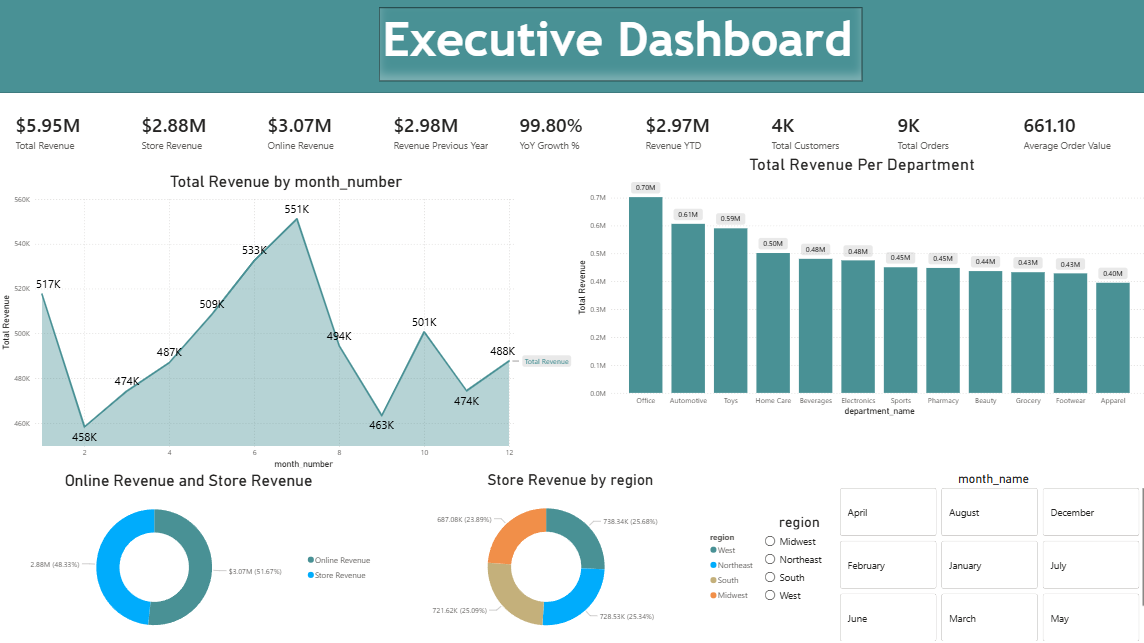

The page's visual inventory and layout, read from the dashboard file:
{"tool":"powerbi","page":{"name":"Executive Dashboard","canvas":[1920,1080],"ordinal":0},"visuals":[{"type":"cardVisual","fields":{"Data":["Measures (2).Total Revenue","Measures (2).Store Revenue","Measures (2).Online Revenue","Measures (2).Revenue Previous Year","Measures (2).YoY Growth %","Measures (2).Revenue YTD","Measures (2).Total Customers","Measures (2).Total Orders","Measures (2).Average Order Value"]},"box":[0,97.5,1920,252.5],"z":0},{"type":"lineChart","fields":{"Y":["Measures (2).Total Revenue"],"Category":["gold dim_date.month_number"]},"box":[0,292.5,960,497.5],"z":1000},{"type":"donutChart","fields":{"Y":["Measures (2).Online Revenue","Measures (2).Store Revenue"]},"box":[0,790,635,290],"z":2000},{"type":"shape","box":[0,0,1920,160],"z":3000},{"type":"advancedSlicerVisual","fields":{"Values":["gold dim_date.month_name"]},"box":[1396.7,790,523.3,290],"z":4000},{"type":"textbox","box":[635,17.5,805,122.5],"z":5000},{"type":"donutChart","fields":{"Category":["gold dim_store.region"],"Y":["Measures (2).Store Revenue"]},"box":[635,790,637.5,290],"z":6000},{"type":"columnChart","title":"Total Revenue Per Department","fields":{"Category":["gold dim_product.department_name"],"Y":["Measures (2).Total Revenue"]},"box":[960,262.5,960,440],"z":7000},{"type":"listSlicer","fields":{"Values":["gold dim_store.region"]},"box":[1272,860,126,182],"z":8000}]}

Visuals, with their boxes in screenshot pixels (x1, y1, x2, y2), scaled from the page's 1920x1080 canvas onto the 1144x643 screenshot:
cardVisual - Measures (2).Total Revenue x Measures (2).Store Revenue: rect(0, 58, 1143, 208)
lineChart - Measures (2).Total Revenue x gold dim_date.month_number: rect(0, 174, 572, 470)
donutChart - Measures (2).Online Revenue x Measures (2).Store Revenue: rect(0, 470, 378, 642)
shape: rect(0, 0, 1143, 95)
advancedSlicerVisual - gold dim_date.month_name: rect(832, 470, 1143, 642)
textbox: rect(378, 10, 858, 83)
donutChart - gold dim_store.region x Measures (2).Store Revenue: rect(378, 470, 758, 642)
"Total Revenue Per Department" columnChart: rect(572, 156, 1143, 418)
listSlicer - gold dim_store.region: rect(758, 512, 833, 620)
